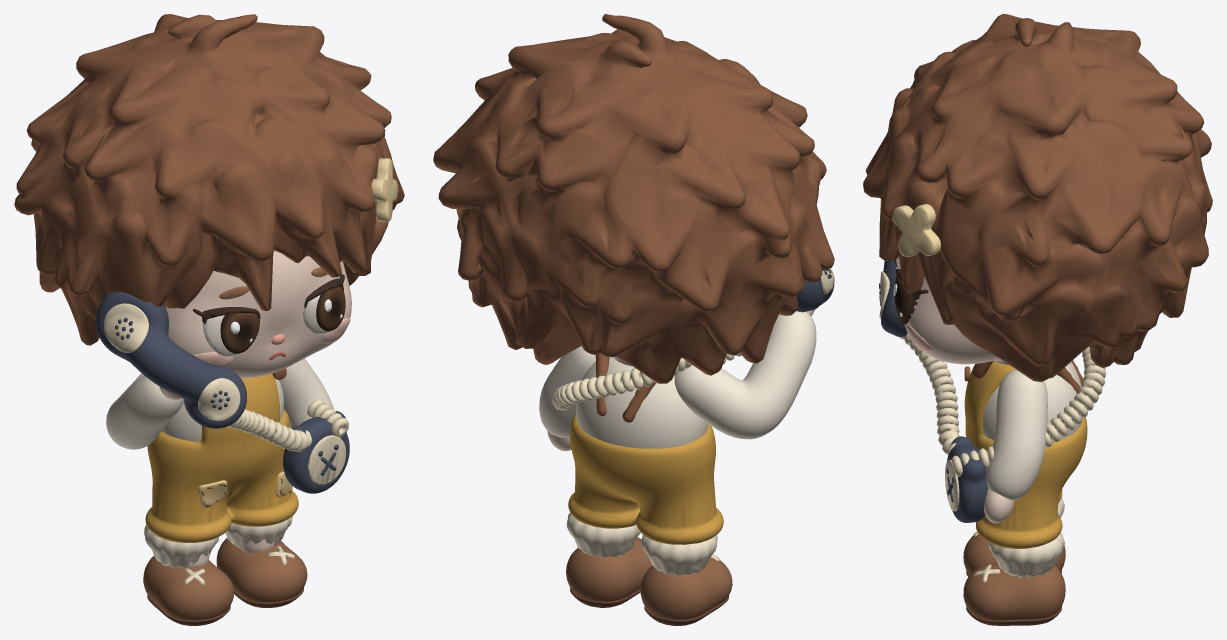
File: echo_line_roblox.glb
3 views of the same model, side by side, from view 1: azimuth 30°, elevation 25°; view 2: azimuth 150°, elevation 25°; view 3: azimuth 270°, elevation 25° (orthographic).
Visible parts, largest first — view 1: EchoLine_Hair, EchoLine_Overalls, EchoLine_Head, EchoLine_Shoes, EchoLine_Receiver, EchoLine_Sleeves, EchoLine_ReceiverPlates, EchoLine_Socks, EchoLine_Cord, EchoLine_Iris, EchoLine_PhoneBag, EchoLine_BagFace (+7 smaller); view 2: EchoLine_Hair, EchoLine_Overalls, EchoLine_Sleeves, EchoLine_Shoes, EchoLine_Sweater, EchoLine_Socks, EchoLine_Cord, EchoLine_Straps, EchoLine_Soles, EchoLine_Receiver; view 3: EchoLine_Hair, EchoLine_Overalls, EchoLine_Sleeves, EchoLine_Shoes, EchoLine_Cord, EchoLine_Head, EchoLine_PhoneBag, EchoLine_Socks, EchoLine_Clip, EchoLine_Sweater, EchoLine_Receiver, EchoLine_Hands (+4 smaller).
Boxes of the visible parts, x1=… form: EchoLine_Hair: x1=14, y1=14, x2=404, y2=345; EchoLine_Overalls: x1=145, y1=373, x2=298, y2=542; EchoLine_Head: x1=165, y1=250, x2=351, y2=378; EchoLine_Shoes: x1=143, y1=538, x2=307, y2=620; EchoLine_Receiver: x1=95, y1=291, x2=246, y2=428; EchoLine_Sleeves: x1=106, y1=358, x2=334, y2=449; EchoLine_ReceiverPlates: x1=104, y1=303, x2=240, y2=420; EchoLine_Socks: x1=144, y1=516, x2=292, y2=567; EchoLine_Cord: x1=227, y1=400, x2=349, y2=451; EchoLine_Iris: x1=220, y1=286, x2=345, y2=353; EchoLine_PhoneBag: x1=283, y1=411, x2=349, y2=493; EchoLine_BagFace: x1=308, y1=435, x2=346, y2=484; EchoLine_Hair: x1=433, y1=14, x2=834, y2=383; EchoLine_Overalls: x1=568, y1=413, x2=723, y2=544; EchoLine_Sleeves: x1=539, y1=311, x2=816, y2=439; EchoLine_Shoes: x1=566, y1=537, x2=732, y2=619; EchoLine_Sweater: x1=576, y1=357, x2=707, y2=448; EchoLine_Socks: x1=566, y1=512, x2=717, y2=575; EchoLine_Cord: x1=551, y1=353, x2=741, y2=410; EchoLine_Straps: x1=595, y1=353, x2=655, y2=422; EchoLine_Soles: x1=570, y1=588, x2=728, y2=625; EchoLine_Receiver: x1=797, y1=278, x2=834, y2=312; EchoLine_Hair: x1=863, y1=14, x2=1212, y2=382; EchoLine_Overalls: x1=964, y1=361, x2=1087, y2=548; EchoLine_Sleeves: x1=986, y1=369, x2=1047, y2=500; EchoLine_Shoes: x1=963, y1=534, x2=1065, y2=620; EchoLine_Cord: x1=899, y1=333, x2=1105, y2=476; EchoLine_Head: x1=896, y1=256, x2=1008, y2=364; EchoLine_PhoneBag: x1=947, y1=436, x2=988, y2=522; EchoLine_Socks: x1=988, y1=498, x2=1064, y2=577; EchoLine_Clip: x1=892, y1=204, x2=941, y2=257; EchoLine_Sweater: x1=983, y1=362, x2=1082, y2=442; EchoLine_Receiver: x1=881, y1=259, x2=907, y2=336; EchoLine_Hands: x1=984, y1=489, x2=1014, y2=523.
Bounding box in the file's own units: 2.17 × 3.47 × 1.9.
Materials: 21 (21 with a texture image).
